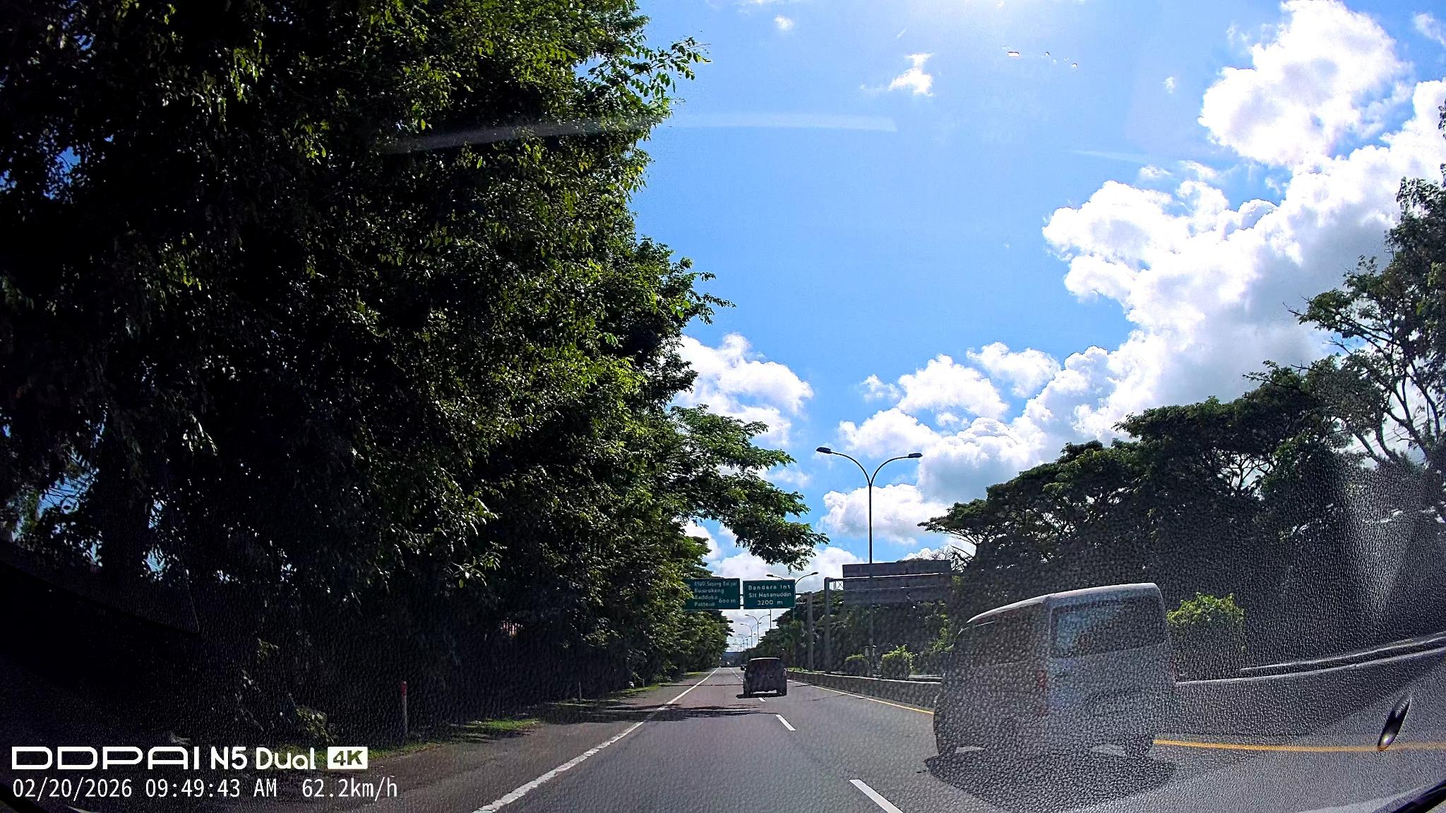rambu_teks: (680, 576, 742, 610), (743, 579, 796, 610)
